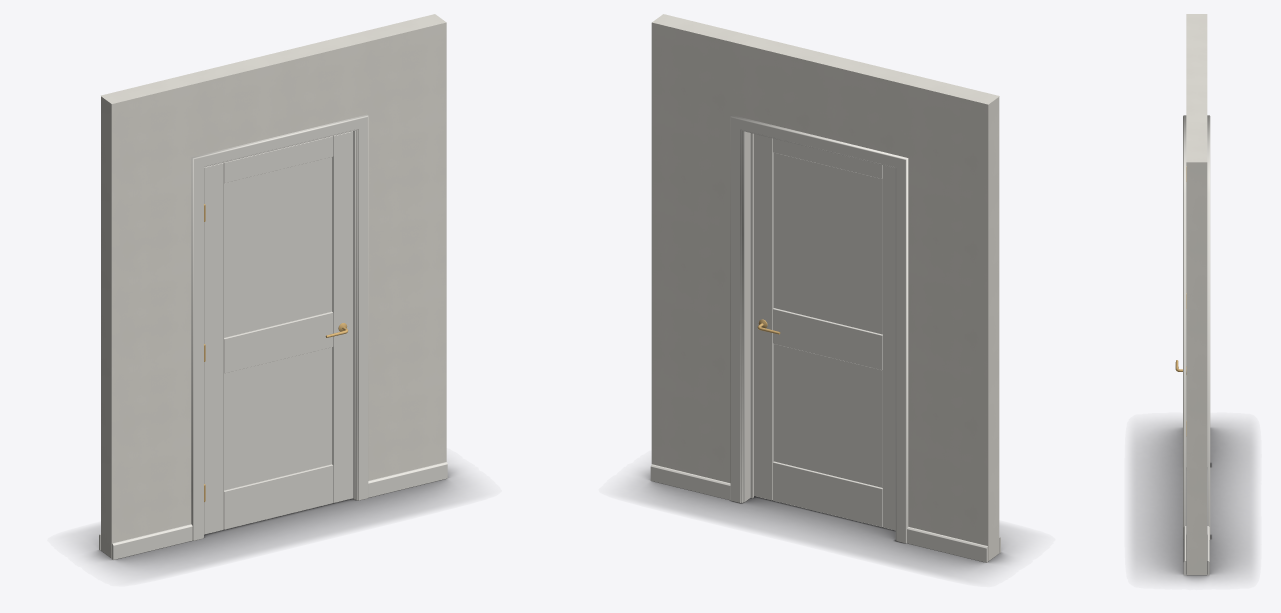
File: wall_door.glb
The picture shows the model from 3 angles, left to right: view 1: azimuth 30°, elevation 25°; view 2: azimuth 150°, elevation 25°; view 3: azimuth 270°, elevation 25°; orthographic projection. The views are drawn at different scales.
Parts seen in each view (by area): view 1: wall_door_LOD0, wall_door_Shadow; view 2: wall_door_LOD0, wall_door_Shadow; view 3: wall_door_LOD0, wall_door_Shadow.
Part boxes in pixels (x1=…): wall_door_LOD0: x1=99, y1=14, x2=447, y2=559; wall_door_Shadow: x1=80, y1=466, x2=466, y2=574; wall_door_LOD0: x1=650, y1=14, x2=1000, y2=562; wall_door_Shadow: x1=631, y1=468, x2=1019, y2=576; wall_door_LOD0: x1=1175, y1=14, x2=1210, y2=575; wall_door_Shadow: x1=1132, y1=422, x2=1253, y2=581.
Size of what is drawn, in the model's own units: 2.64 by 2.6 by 0.8385.
Materials: 4 (2 with a texture image).
